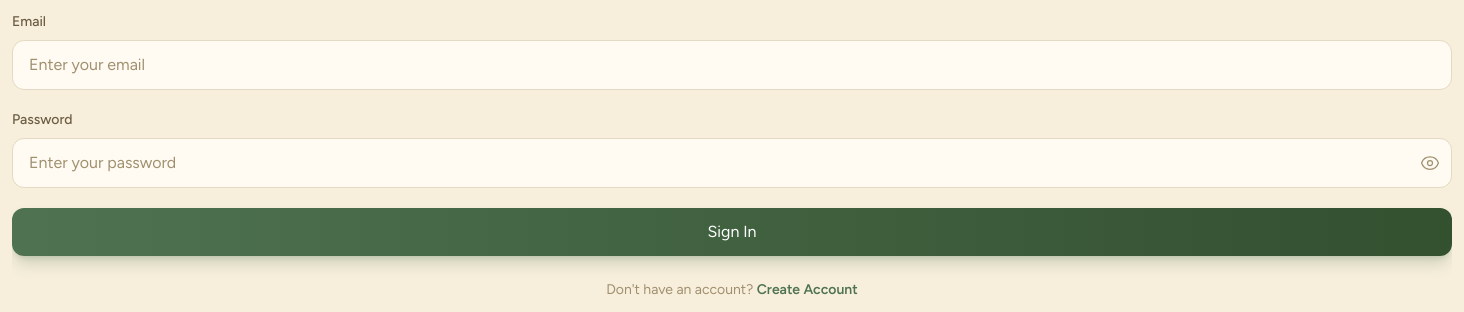
it: LoginForm › disables button while submitting
In the field labelled "Email": (732, 65) [12, 40, 1452, 90], type "test@example.com"
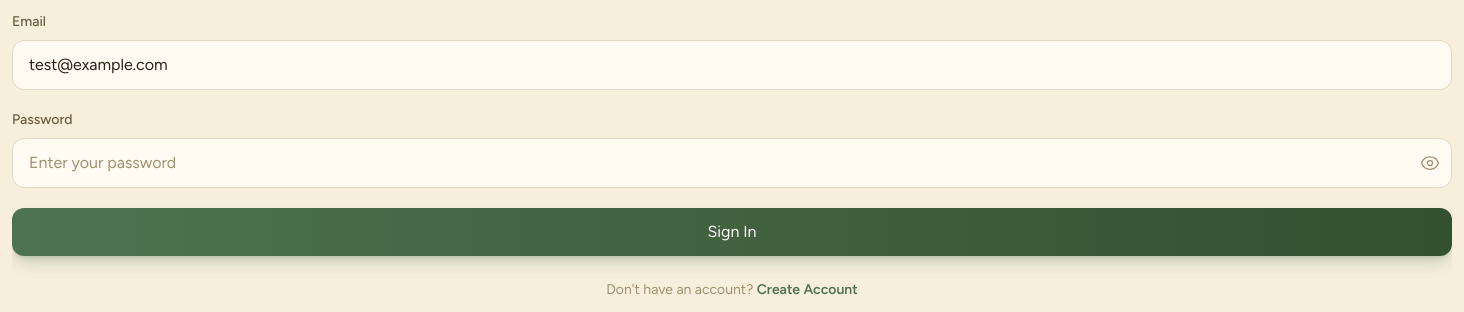
In the password field labelled "Password": (732, 163) [12, 138, 1452, 188], type "password123"
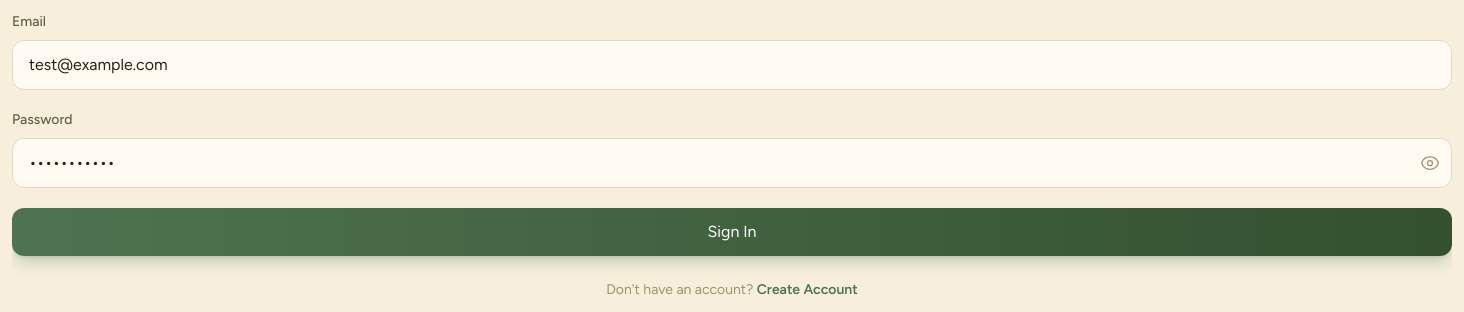
Submit the form "Email Password Sign In"
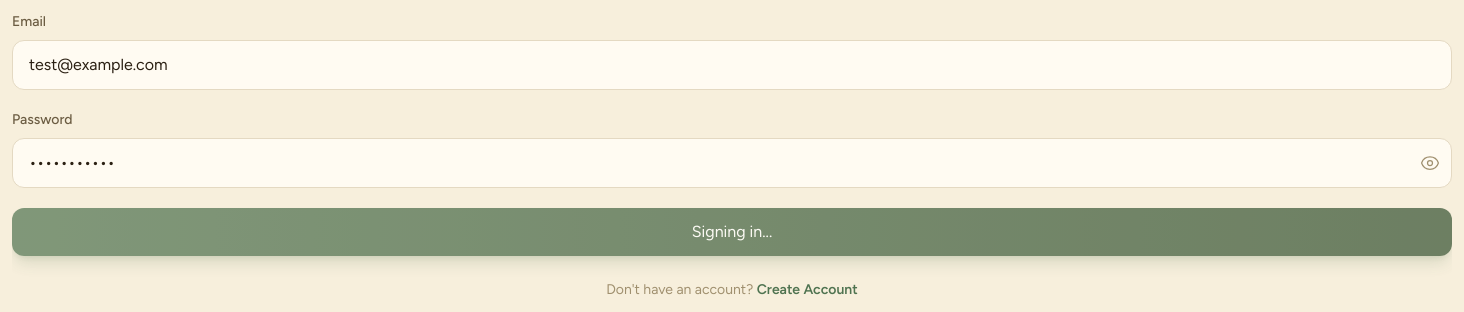
Now the button "Signing in..." is disabled, box [12, 208, 1452, 256]
